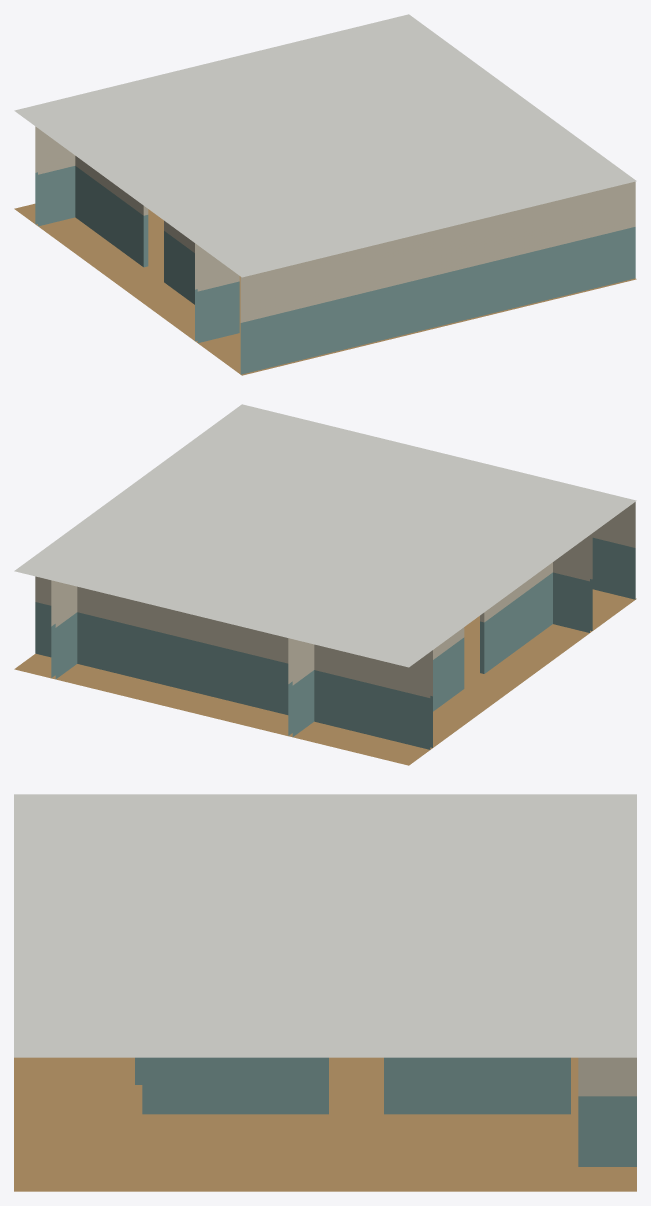
The model's file is chunk_1_3.glb.
3 renders of one model, top to bottom at view 1: azimuth 30°, elevation 25°; view 2: azimuth 150°, elevation 25°; view 3: azimuth 270°, elevation 25°, orthographic. The views are drawn at different scales.
Visible parts, largest first — view 1: chunk_1_3; view 2: chunk_1_3; view 3: chunk_1_3.
Part boxes in pixels (x1,y1,x2,y2): chunk_1_3: (14, 14, 636, 375); chunk_1_3: (14, 404, 636, 765); chunk_1_3: (14, 794, 636, 1191).
Bounding box in the file's own units: 12 × 2.85 × 12.
